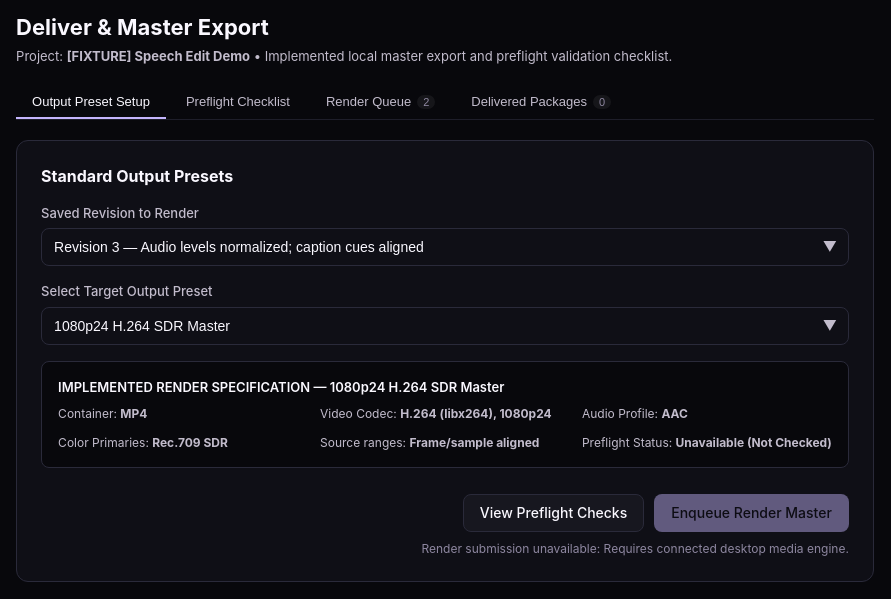
Test case: DeliveryTruth: Deliver Route Truth & Gating › offers all six implemented render presets and updates the spec text per preset
Expected: the text "H.264 (libx264), 1080p24" is shown, [400,406,552,421]
# Switching to the HDR10 preset updates the spec block honestly.
Select "4K30 H.265 HDR10" in the dropdown labelled "Select Target Output Preset": (445, 326) [41,307,849,345]
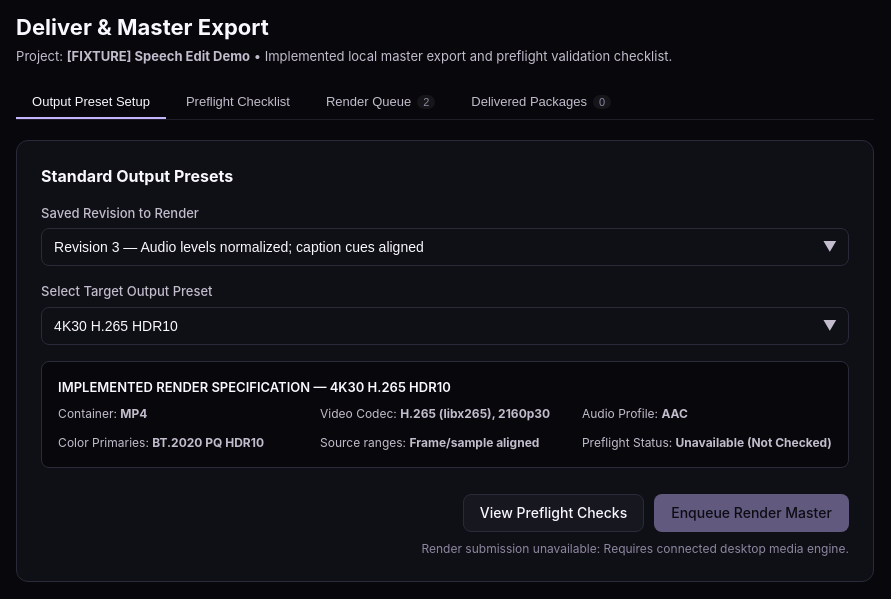
Expected: the text "H.265 (libx265), 2160p30" is shown, [400,406,550,421]
Expected: the text "BT.2020 PQ HDR10" is shown, [152,435,264,450]
Expected: the text "H.264 (libx264), 1080p24" is gone
